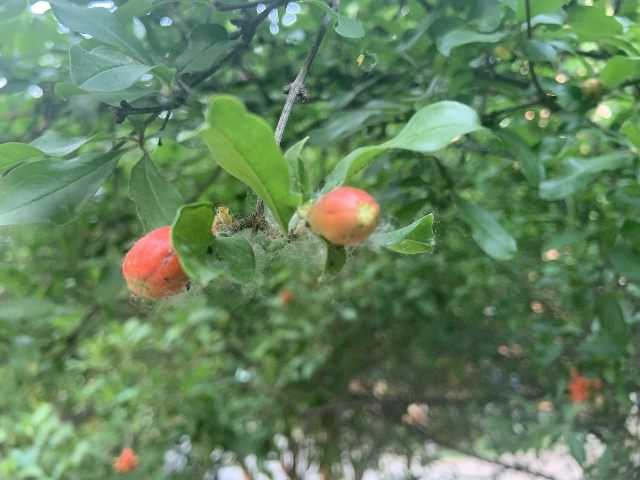bud: (122, 226, 190, 299), (307, 186, 379, 245)
